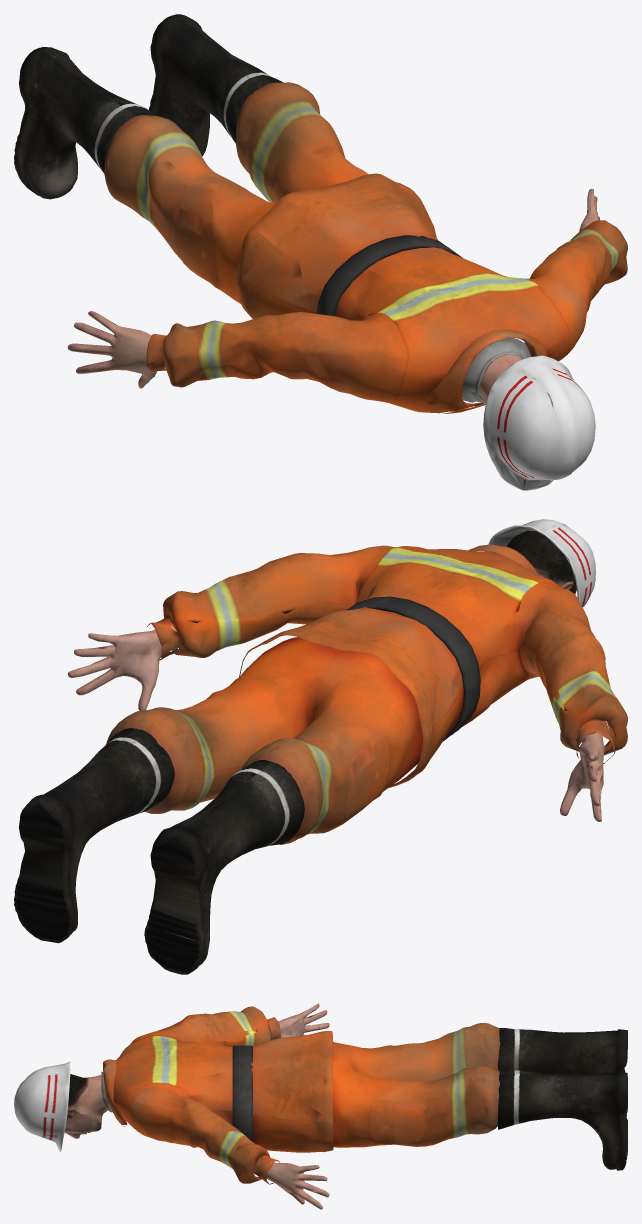
File: xiaofangyuan.glb
3 renders of one model, top to bottom at view 1: azimuth 30°, elevation 25°; view 2: azimuth 150°, elevation 25°; view 3: azimuth 270°, elevation 25°, orthographic. The views are drawn at different scales.
Visible parts, largest first — view 1: maozi; view 2: maozi; view 3: maozi.
Part boxes in pixels (x1,y1,x2,y2): maozi: (14,14,627,490); maozi: (14,519,627,974); maozi: (14,1003,627,1209).
Bounding box in the file's own units: 1.26 × 0.3524 × 1.91.
8 materials, 7 textured.
